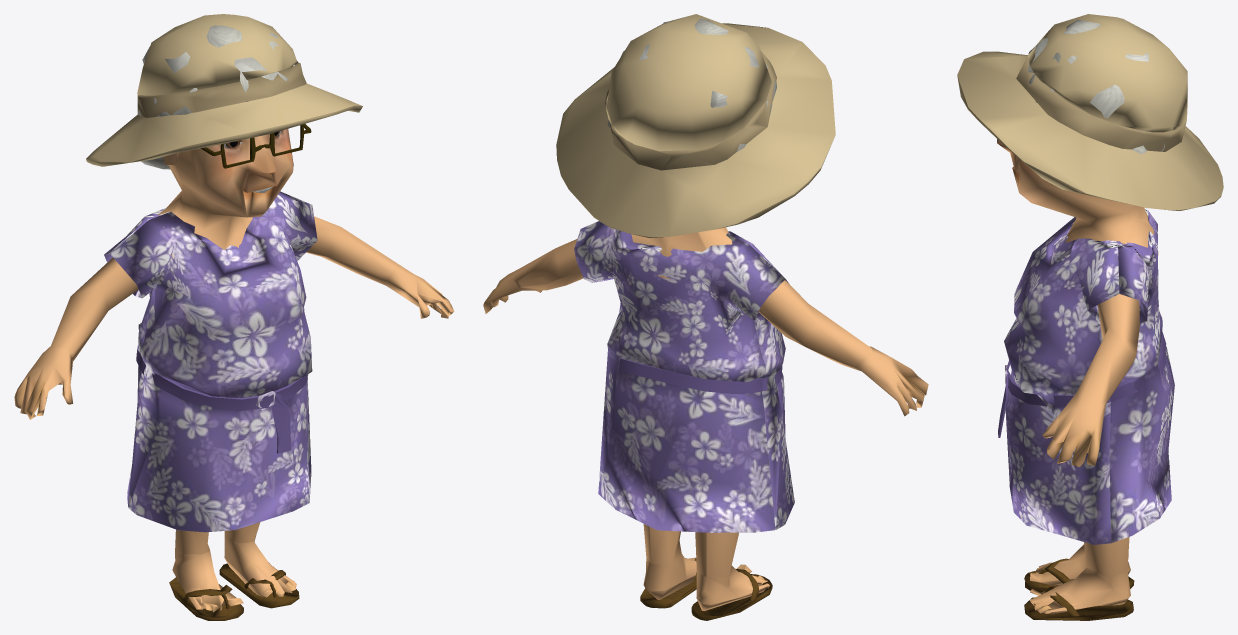
Rendered from Grandma.glb.
3 views of the same model, side by side, from view 1: azimuth 30°, elevation 25°; view 2: azimuth 150°, elevation 25°; view 3: azimuth 270°, elevation 25° (orthographic).
Parts seen in each view (by area): view 1: Obj3d66-18023054-9-839, Obj3d66-18023054-10-338, Obj3d66-18023054-3-841, Obj3d66-18023054-7-75, Obj3d66-18023054-8-235, Obj3d66-18023054-5-65, Obj3d66-18023054-4-142, Obj3d66-18023054-6-422; view 2: Obj3d66-18023054-9-839, Obj3d66-18023054-10-338, Obj3d66-18023054-3-841, Obj3d66-18023054-8-235, Obj3d66-18023054-5-65, Obj3d66-18023054-7-75, Obj3d66-18023054-4-142; view 3: Obj3d66-18023054-9-839, Obj3d66-18023054-10-338, Obj3d66-18023054-3-841, Obj3d66-18023054-7-75, Obj3d66-18023054-5-65, Obj3d66-18023054-4-142, Obj3d66-18023054-8-235.
Part boxes in pixels (<box>): Obj3d66-18023054-9-839: <box>104,191,317,532</box>; Obj3d66-18023054-10-338: <box>86,14,362,166</box>; Obj3d66-18023054-3-841: <box>14,216,454,612</box>; Obj3d66-18023054-7-75: <box>157,129,293,256</box>; Obj3d66-18023054-8-235: <box>136,347,307,453</box>; Obj3d66-18023054-5-65: <box>169,563,299,620</box>; Obj3d66-18023054-4-142: <box>138,25,295,169</box>; Obj3d66-18023054-6-422: <box>201,124,311,410</box>; Obj3d66-18023054-9-839: <box>574,221,794,532</box>; Obj3d66-18023054-10-338: <box>556,14,835,237</box>; Obj3d66-18023054-3-841: <box>483,239,928,610</box>; Obj3d66-18023054-8-235: <box>619,358,782,393</box>; Obj3d66-18023054-5-65: <box>640,558,772,620</box>; Obj3d66-18023054-7-75: <box>631,227,732,279</box>; Obj3d66-18023054-4-142: <box>607,18,776,151</box>; Obj3d66-18023054-9-839: <box>1004,208,1174,544</box>; Obj3d66-18023054-10-338: <box>957,14,1223,210</box>; Obj3d66-18023054-3-841: <box>1029,294,1139,614</box>; Obj3d66-18023054-7-75: <box>997,139,1158,255</box>; Obj3d66-18023054-5-65: <box>1024,558,1134,620</box>; Obj3d66-18023054-4-142: <box>1028,19,1164,153</box>; Obj3d66-18023054-8-235: <box>998,332,1166,437</box>.
Bounding box in the file's own units: 0.777 × 0.9948 × 0.4203.
9 materials, 9 textured.
